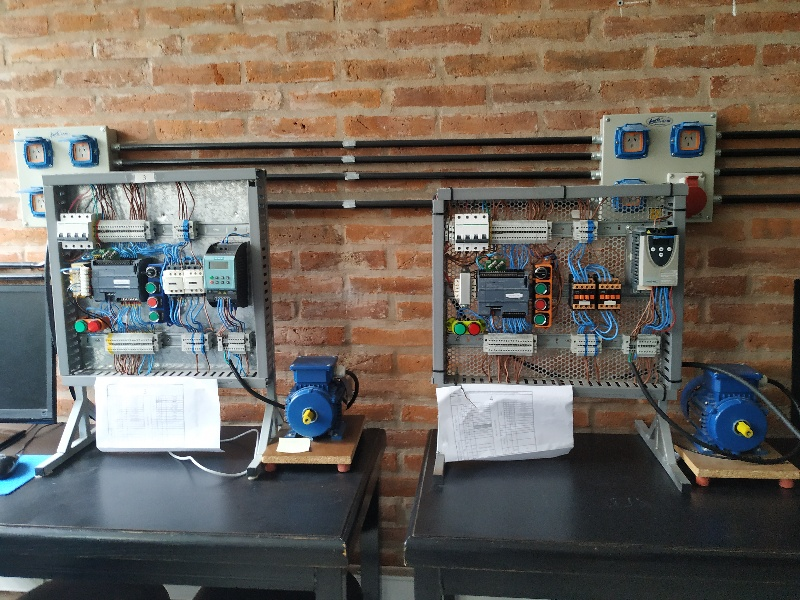Tablero 3: (50, 178, 265, 375)
Tablero 4: (443, 193, 682, 393)
